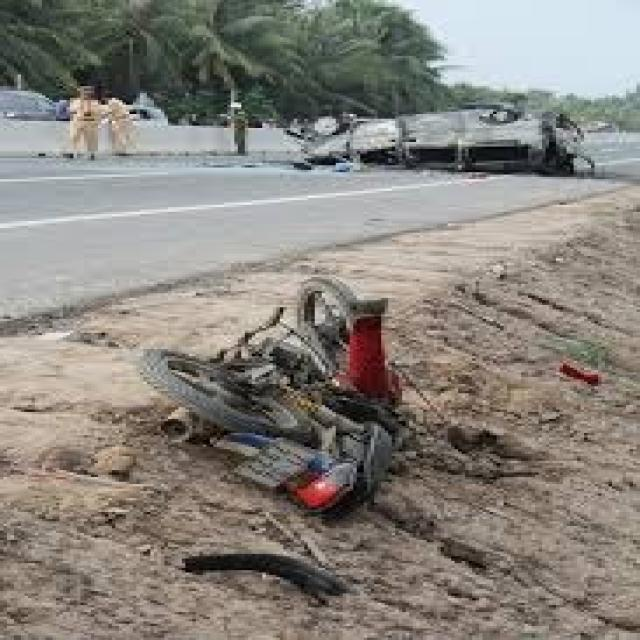accident: (175, 219, 448, 521), (275, 81, 593, 190)
